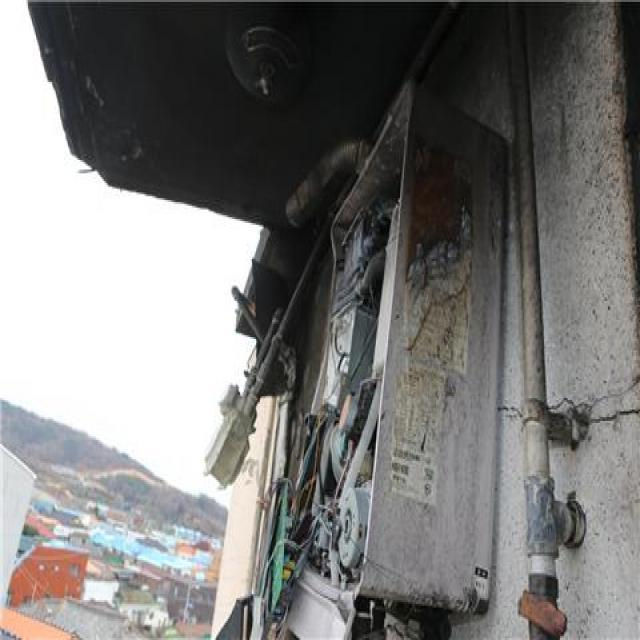Boiler: (248, 75, 538, 640)
